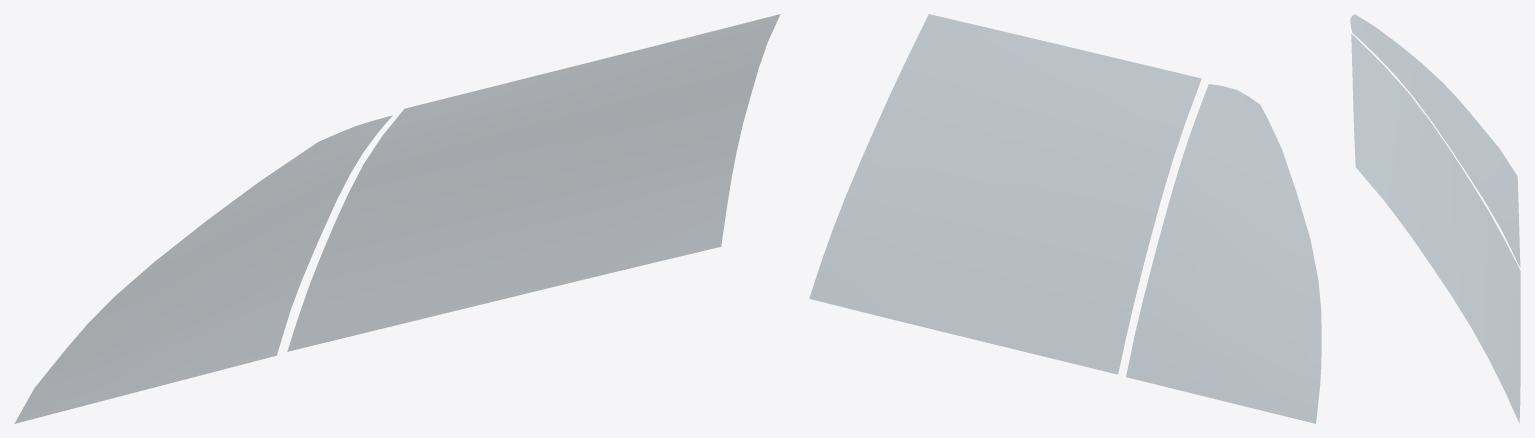
3 views of the same model, side by side, from view 1: azimuth 30°, elevation 25°; view 2: azimuth 150°, elevation 25°; view 3: azimuth 270°, elevation 25° (orthographic). The views are drawn at different scales.
Visible parts, largest first — view 1: SM_FordCrown02_Door_RL_Glass_Ext2; view 2: SM_FordCrown02_Door_RL_Glass_Ext2; view 3: SM_FordCrown02_Door_RL_Glass_Ext2.
Boxes of the visible parts, <box> form: SM_FordCrown02_Door_RL_Glass_Ext2: <box>14,14,780,423</box>; SM_FordCrown02_Door_RL_Glass_Ext2: <box>809,14,1321,423</box>; SM_FordCrown02_Door_RL_Glass_Ext2: <box>1350,14,1520,422</box>.
Size of the model in its own units: 0.8099 by 0.3632 by 0.2335.
